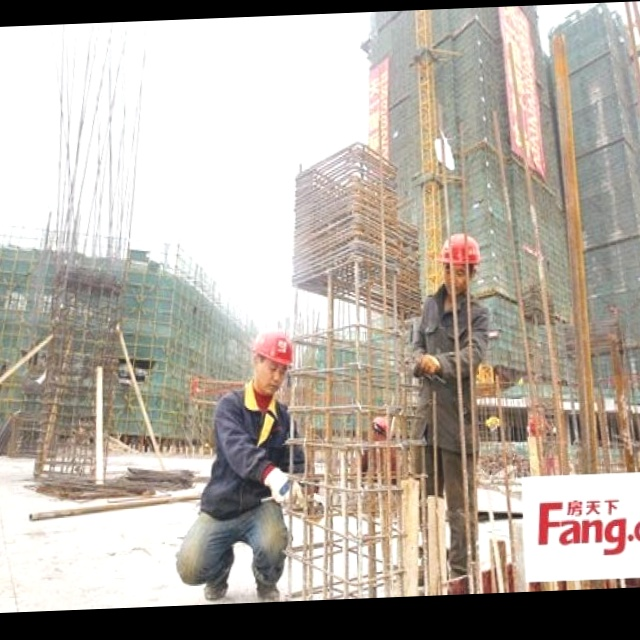Con_Casco: (254, 328, 294, 392)
